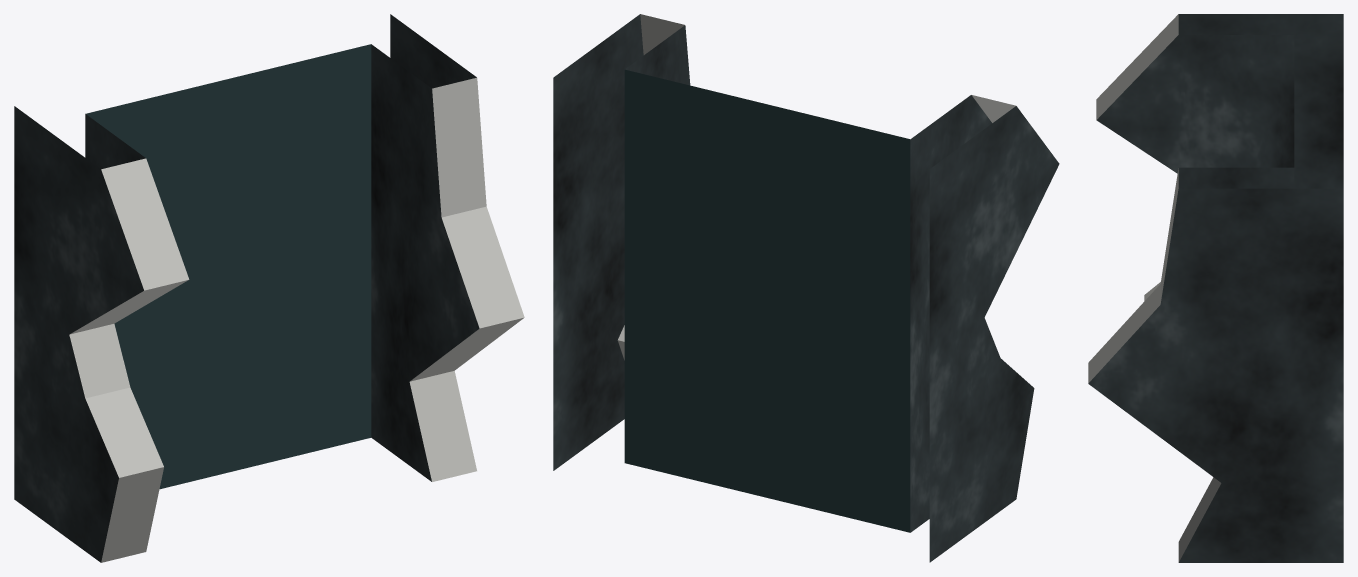
File: OT_048_broken_wall_vert_deco_var6.glb
3 views of the same model, side by side, from view 1: azimuth 30°, elevation 25°; view 2: azimuth 150°, elevation 25°; view 3: azimuth 270°, elevation 25° (orthographic). The views are drawn at different scales.
Parts seen in each view (by area): view 1: broken_wall.001; view 2: broken_wall.001; view 3: broken_wall.001.
Boxes of the visible parts, x1=… form: broken_wall.001: x1=14, y1=14, x2=524, y2=562; broken_wall.001: x1=553, y1=14, x2=1059, y2=562; broken_wall.001: x1=1088, y1=14, x2=1343, y2=562.
Size of the model in its own units: 0.75 by 0.75 by 0.464.
Materials: 3 (1 with a texture image).
